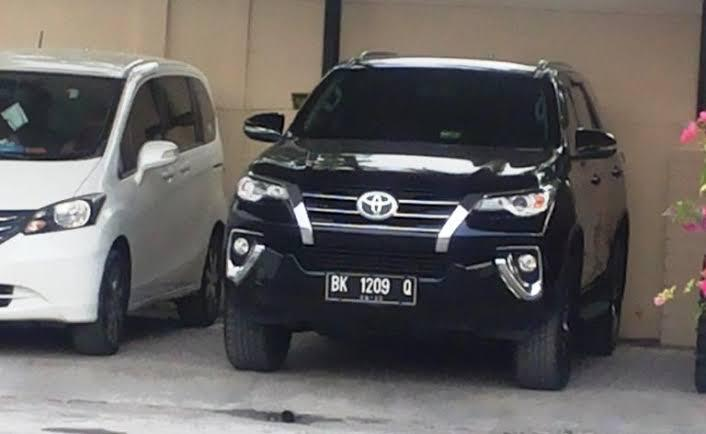plate: (325, 267, 420, 308)
